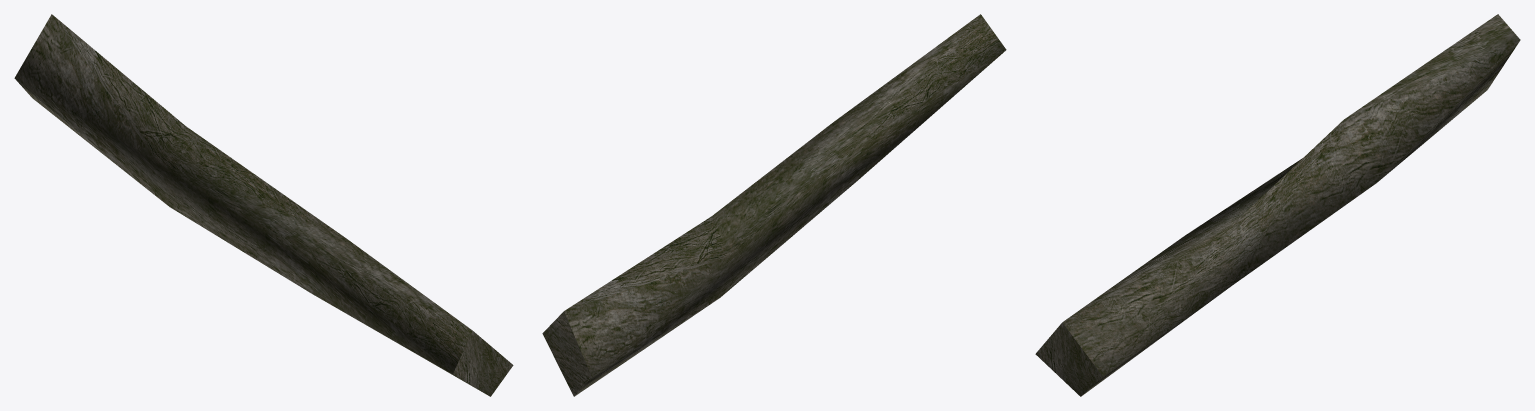
Rendered from TI_S_Branch_03.fbx.
The picture shows the model from 3 angles, left to right: view 1: azimuth 30°, elevation 25°; view 2: azimuth 150°, elevation 25°; view 3: azimuth 330°, elevation 25°; orthographic projection. The views are drawn at different scales.
Parts seen in each view (by area): view 1: TI_S_Branch_03; view 2: TI_S_Branch_03; view 3: TI_S_Branch_03.
Part boxes in pixels (x1=…): TI_S_Branch_03: x1=14, y1=14, x2=513, y2=396; TI_S_Branch_03: x1=542, y1=14, x2=1006, y2=396; TI_S_Branch_03: x1=1035, y1=14, x2=1520, y2=396.
Bounding box in the file's own units: 0.1847 × 0.2289 × 2.14.
